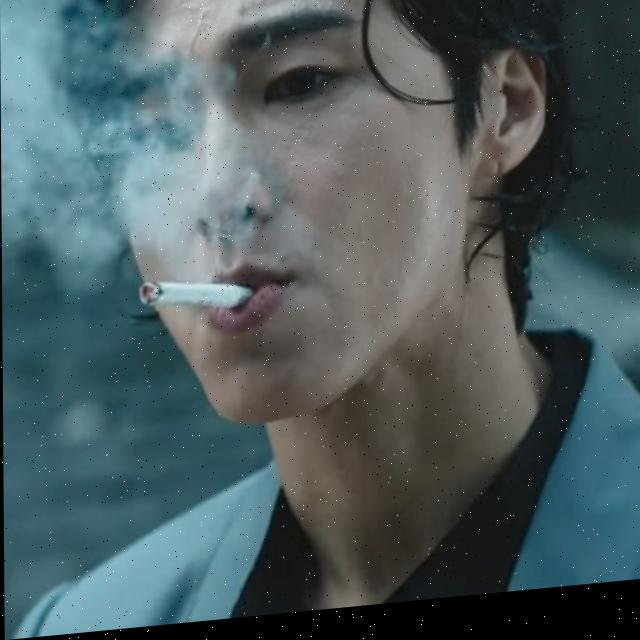cigarette: (137, 276, 252, 321)
